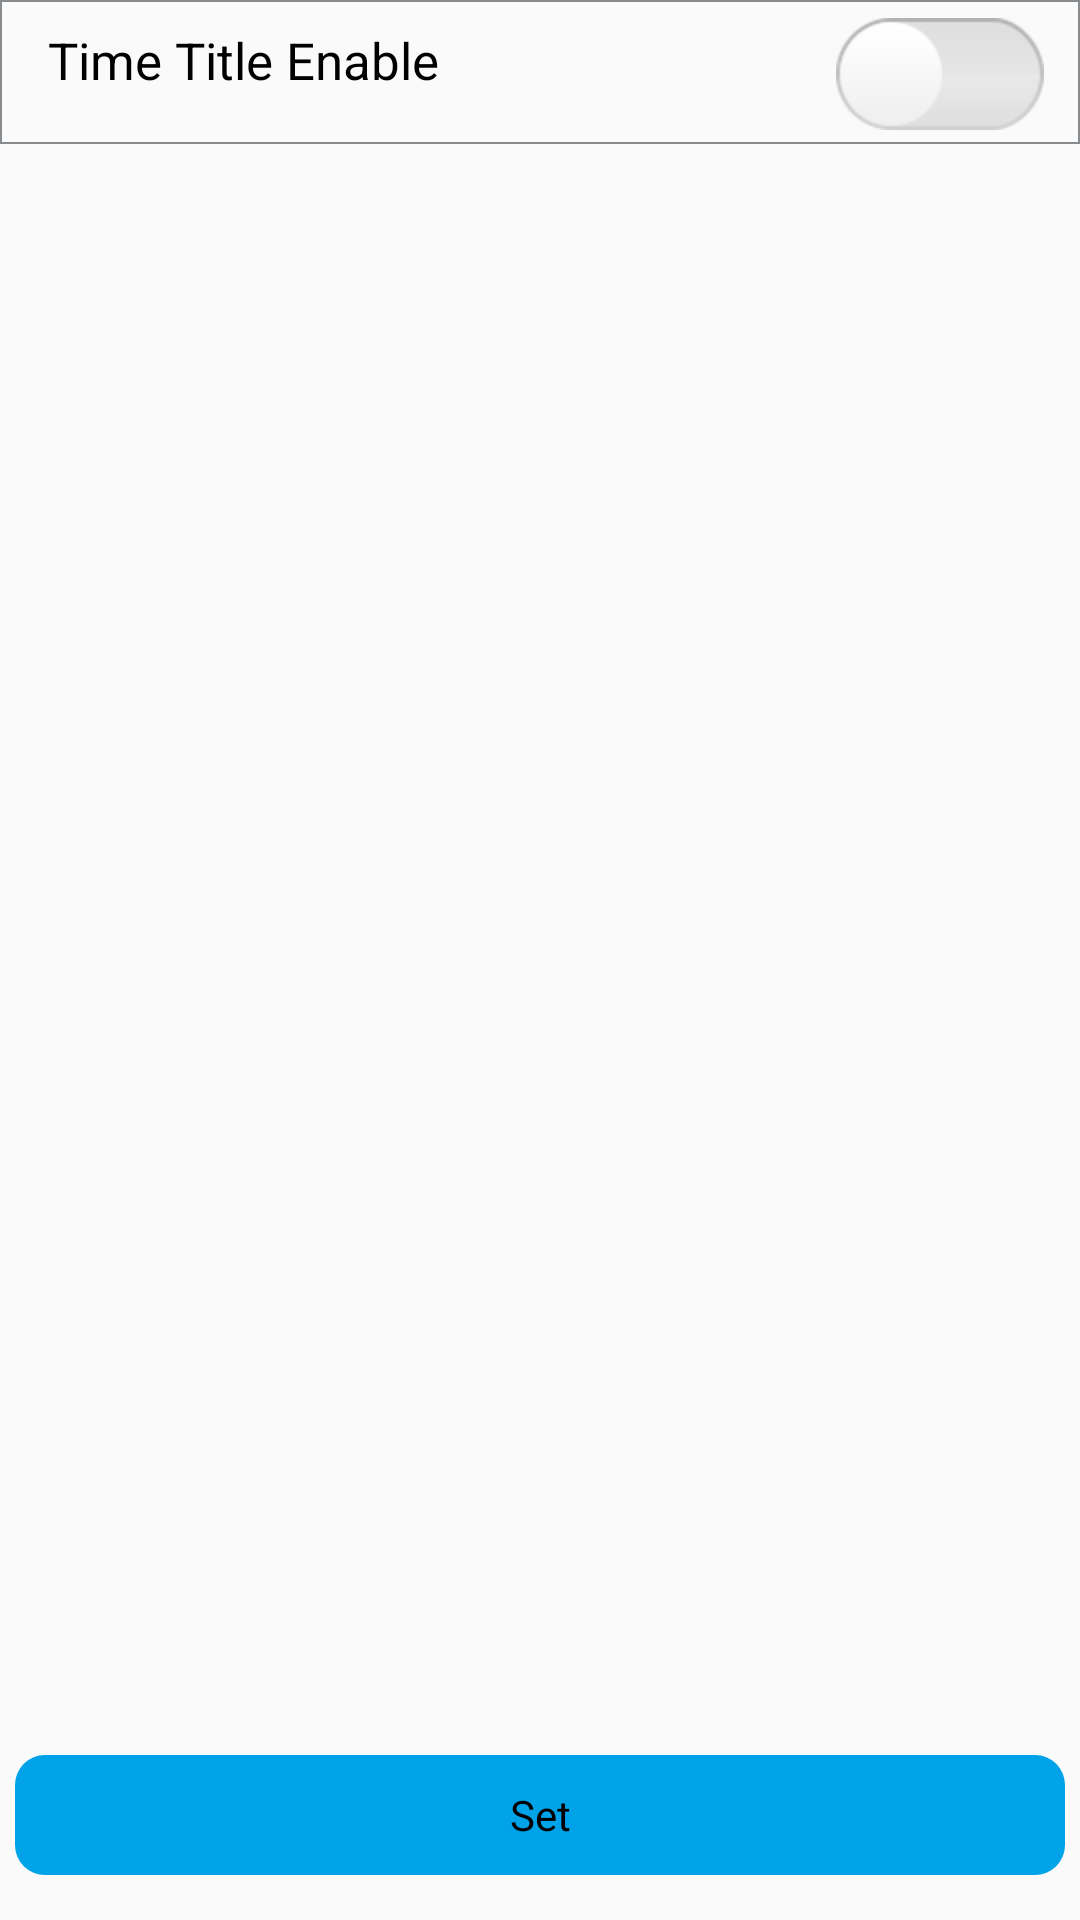

Icons on this 1080×1920 Android screen, each with its box as (x1, y1, x2, y2):
on off: (836, 18, 1044, 130)
